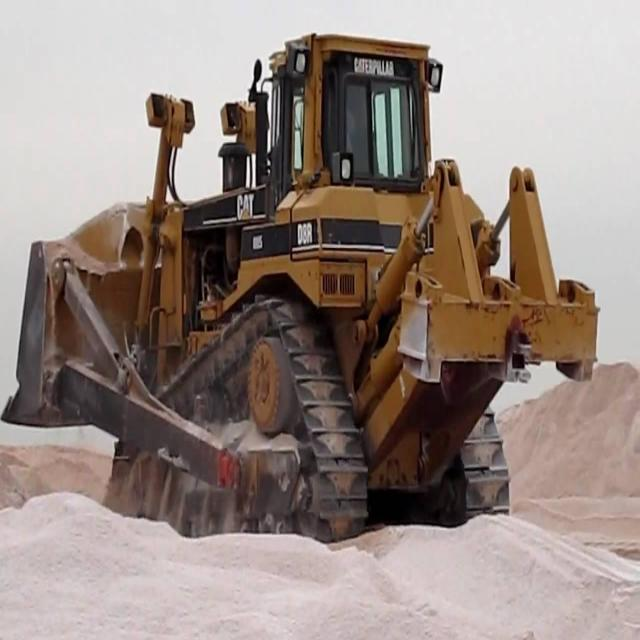Bulldozer: (16, 9, 613, 597)
